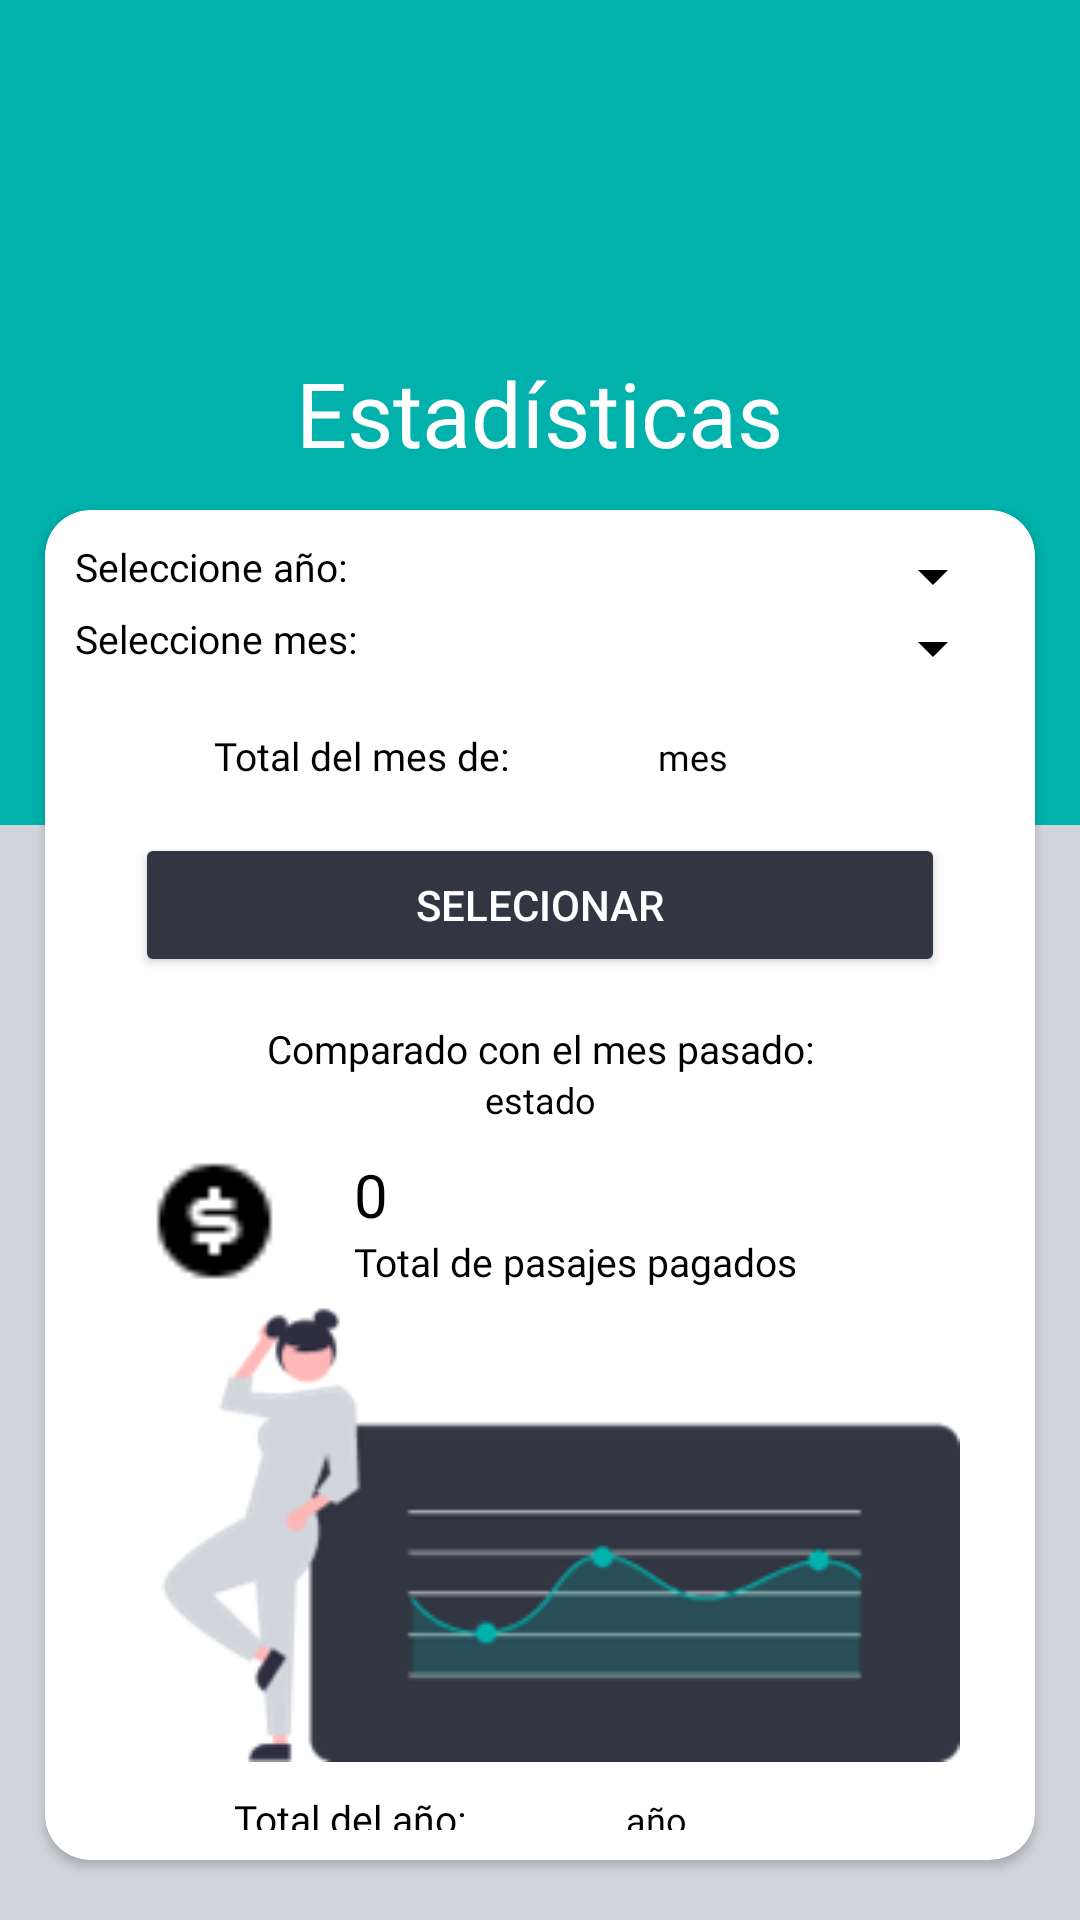

Screen size 1080*1920. Icon name, then its center in pixels as (x,y):
money: (214,1221)
